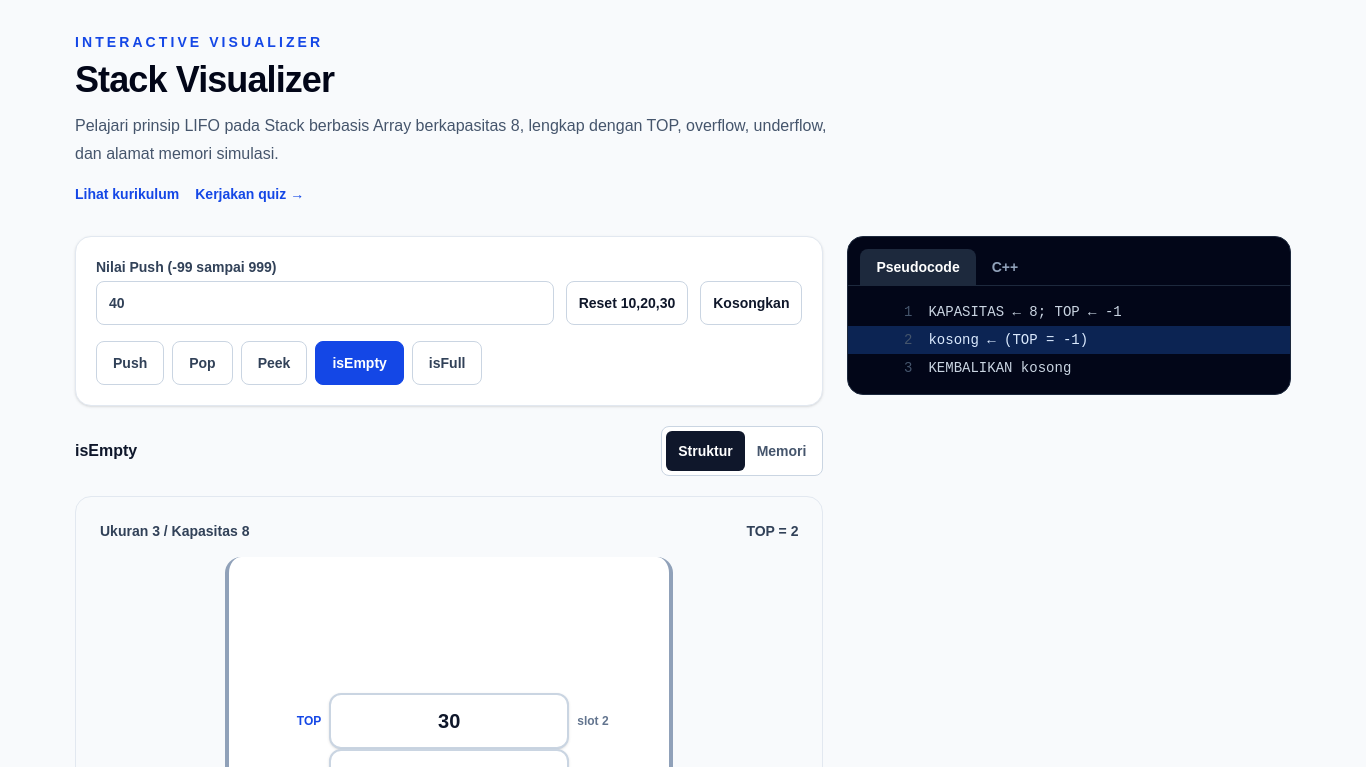
Scenario: StackVisualizer › shows the trace-backed Push transition and commits its final state
Step 1. Click the button "Push" → (130,363), box [96,341,164,385]
(page scrolled)
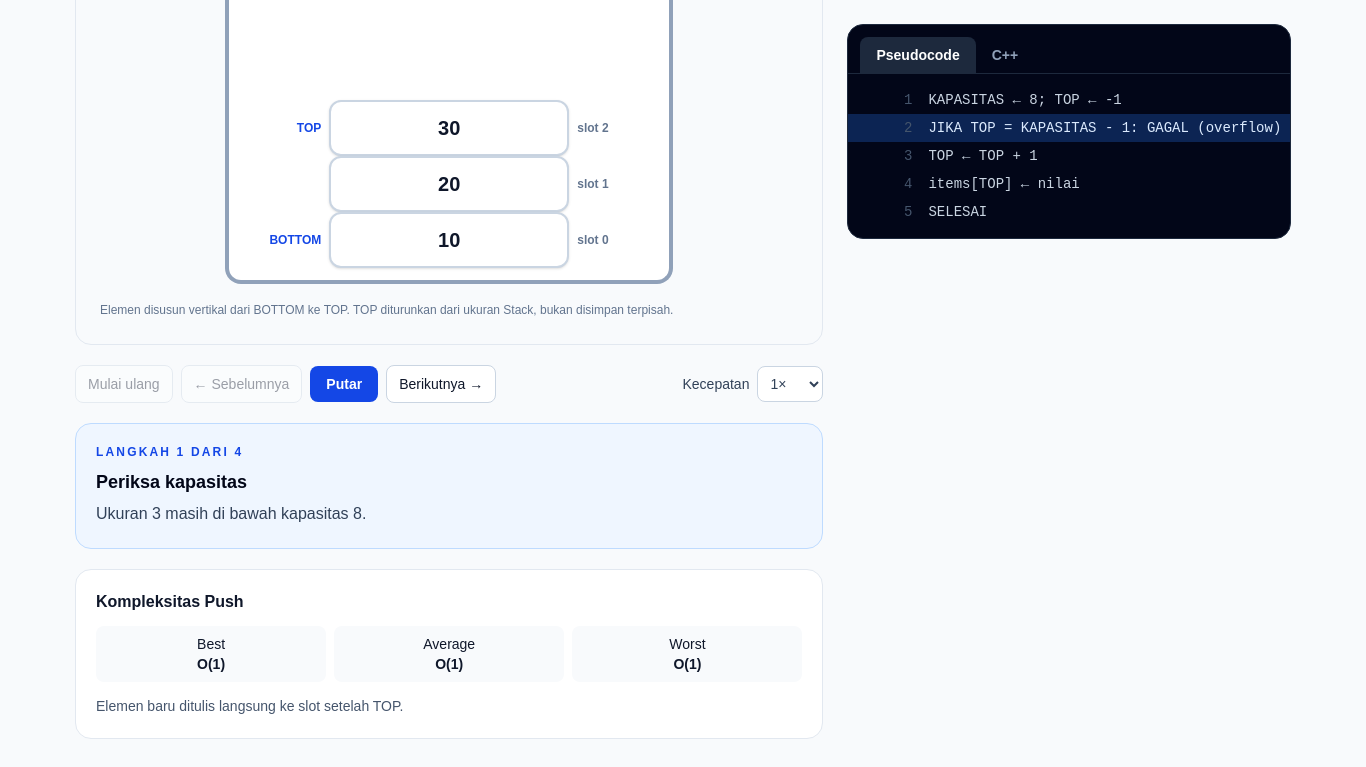
Step 2. Click the button with aria-label "Langkah berikutnya" → (441,384), box [386,365,496,403]
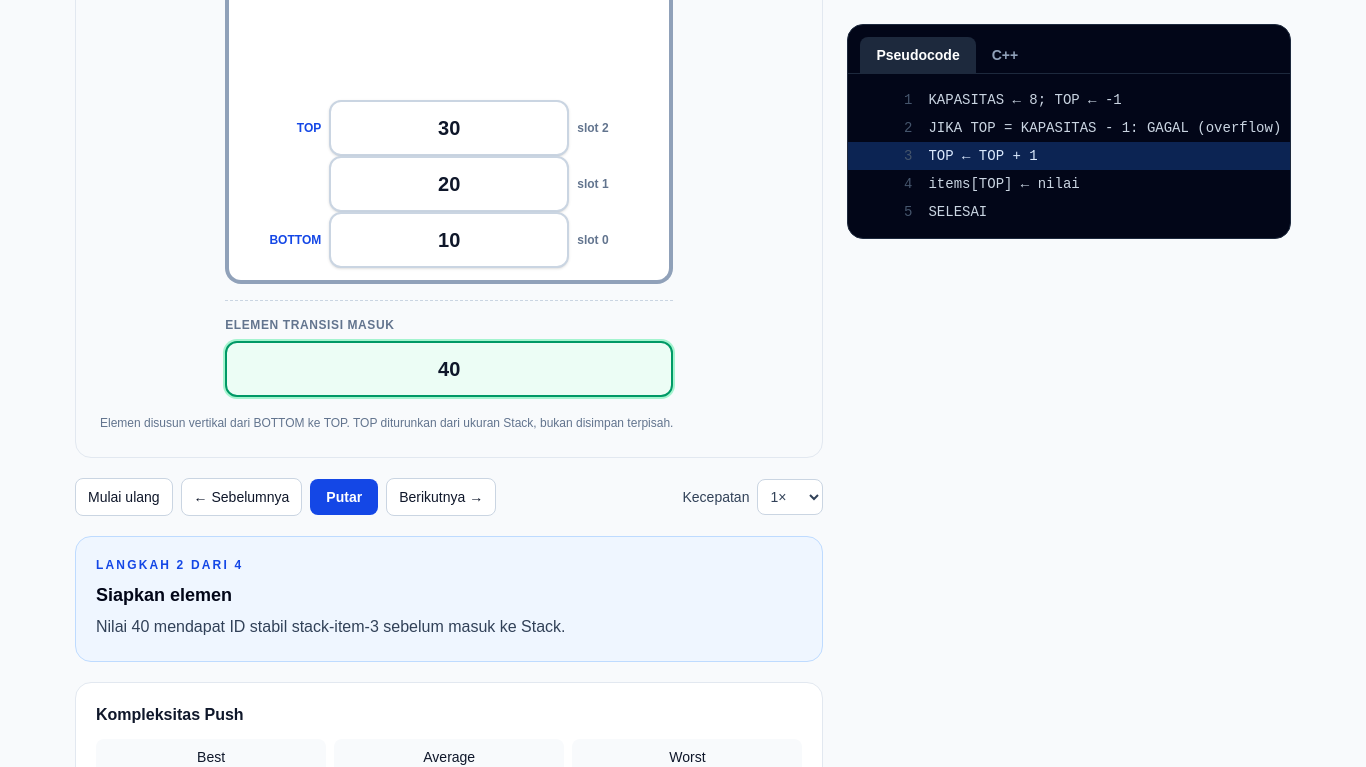
Result: the heading "Siapkan elemen" is shown at [96,585,232,605]
Result: the text "40" is shown at [225,341,673,397]
Step 3. Click the button with aria-label "Langkah berikutnya" → (441,497), box [386,478,496,516]
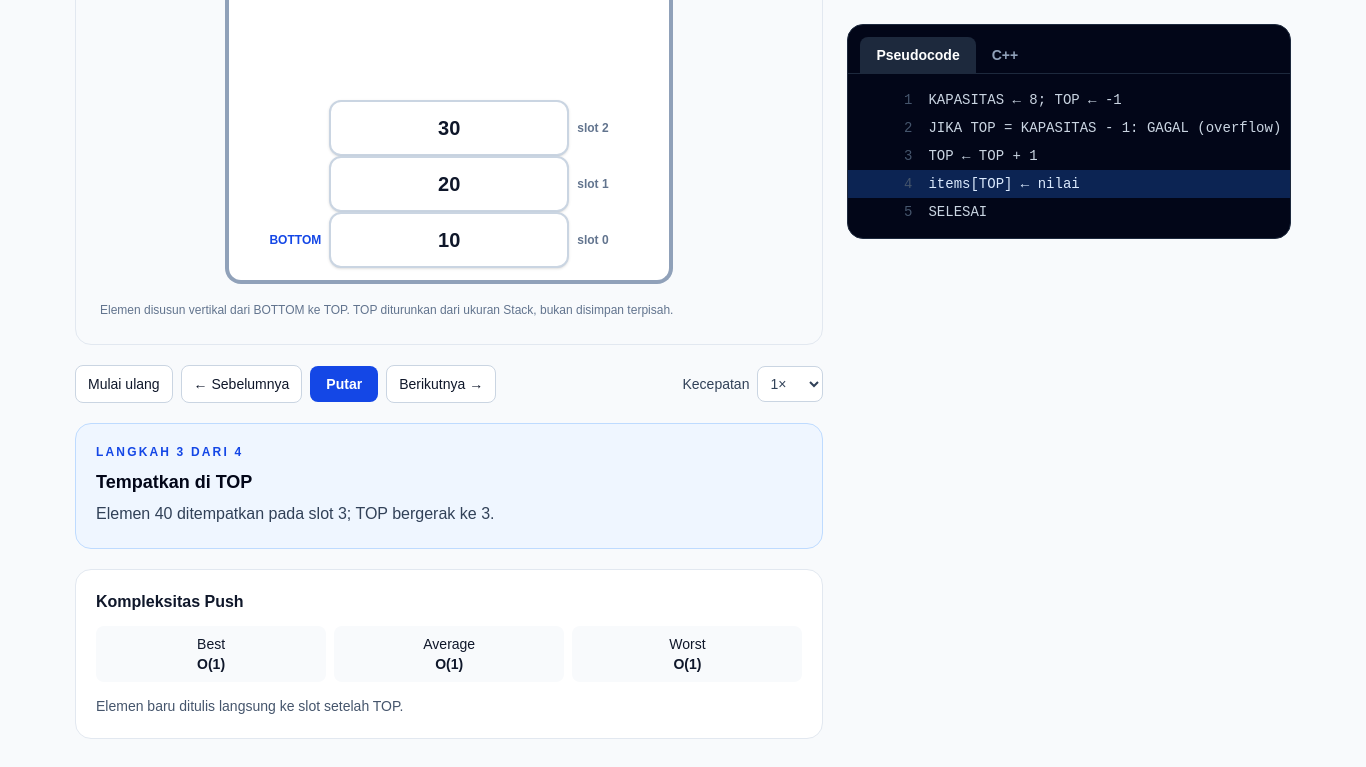
Step 4. Click the button with aria-label "Langkah berikutnya" → (441,384), box [386,365,496,403]
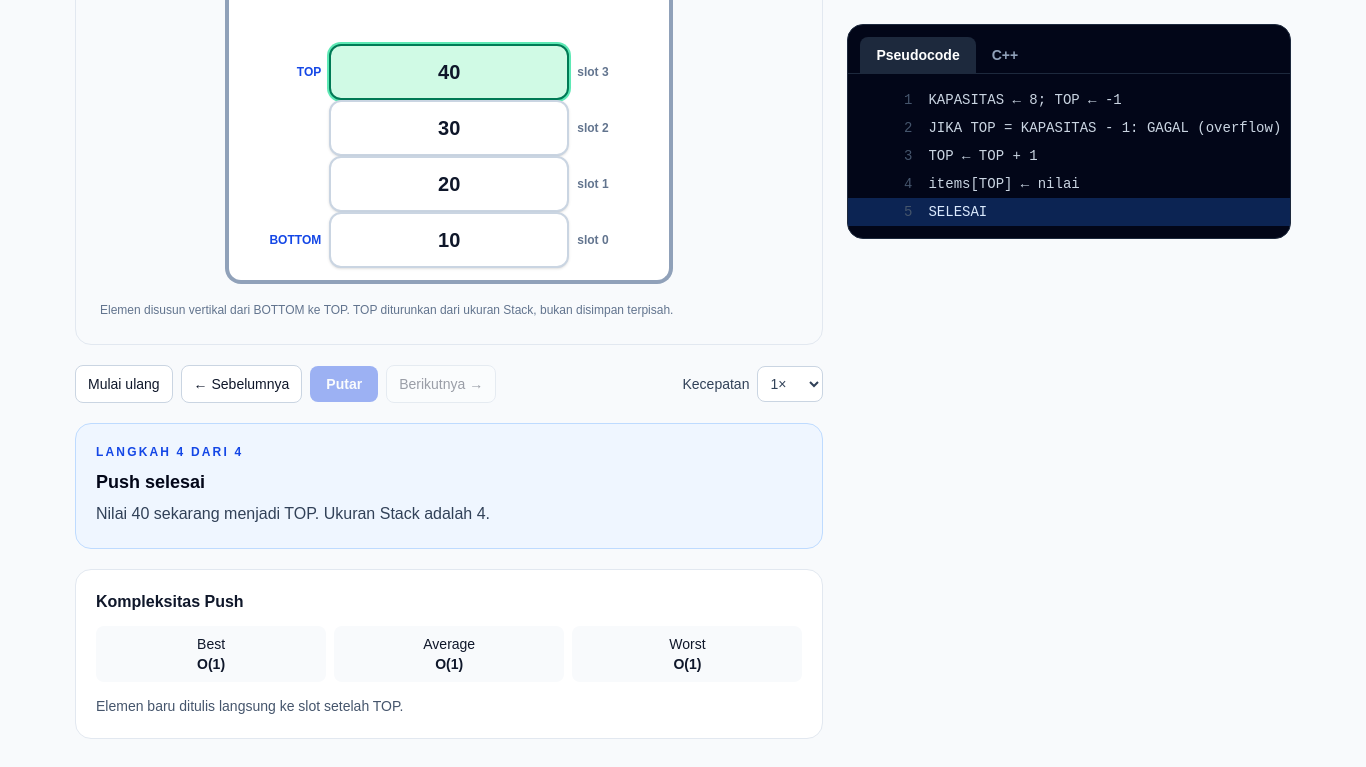
Result: the element showing "TOP 40 slot 3" is shown at [297,44,609,100]
